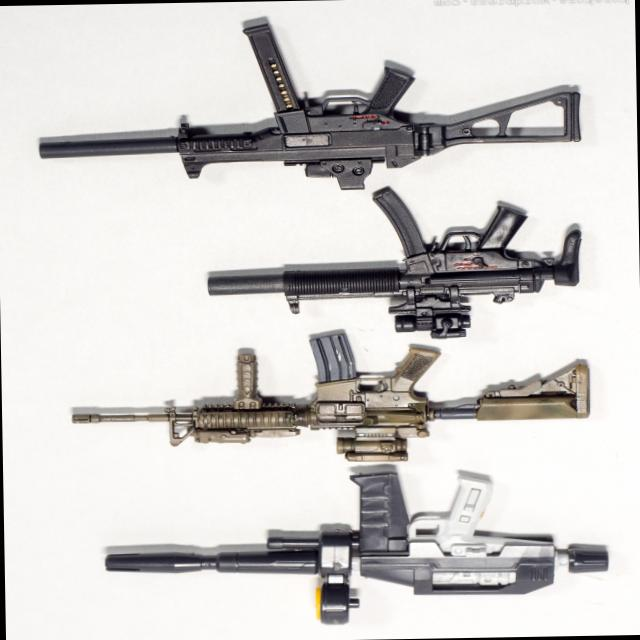Gun: (48, 24, 638, 215), (202, 185, 587, 332)
